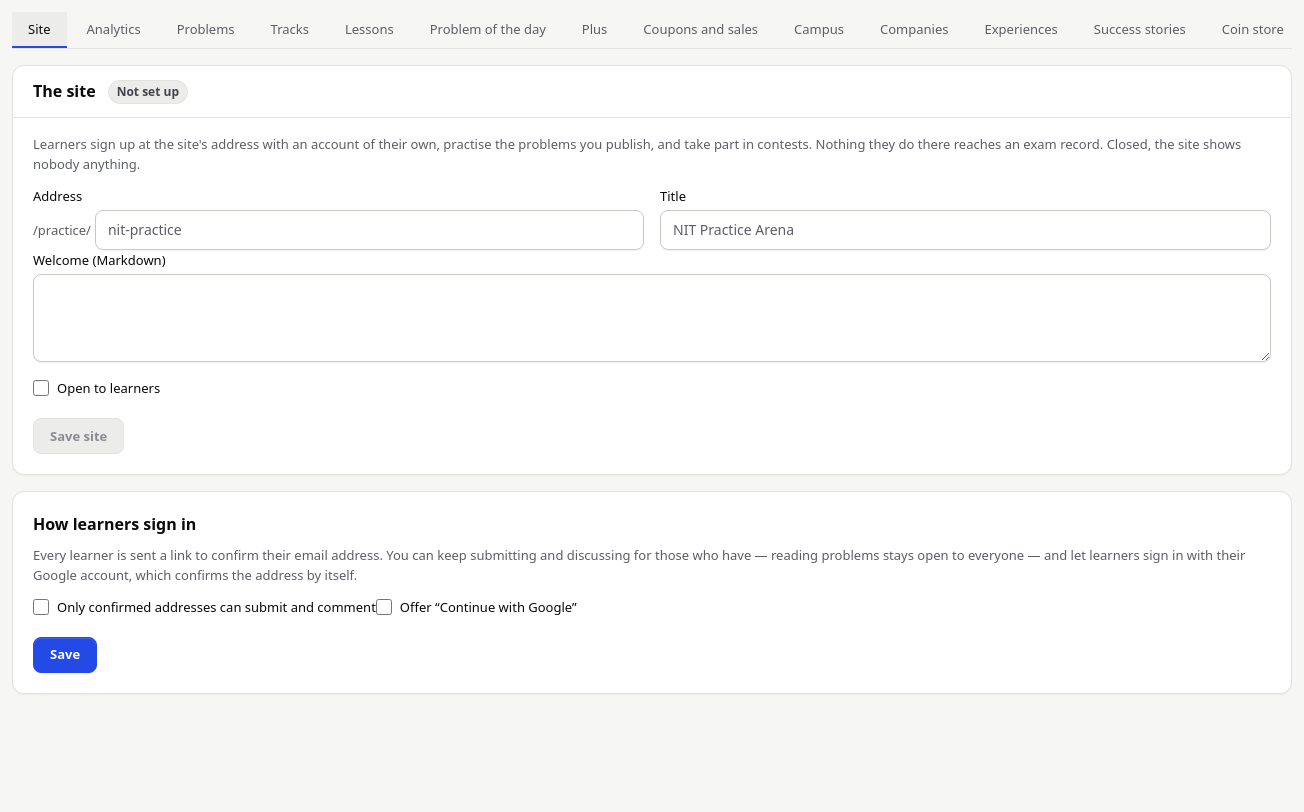
Test: the practice panel › publishes a bank question, offering only what can be checked by machine
Click the tab "Problems": (206, 30) top-left (161, 12), bottom-right (251, 48)
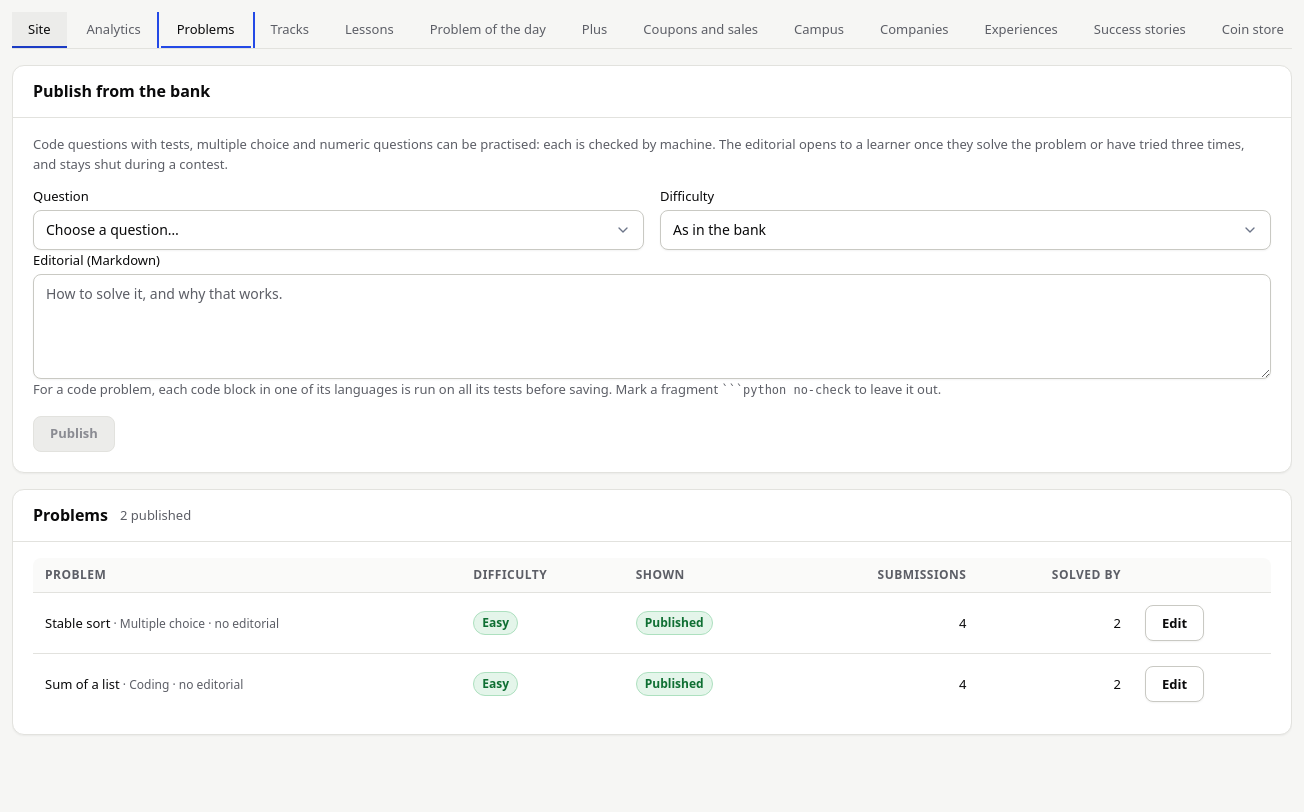
Select "Which is a heap? (mcq, easy)" in the dropdown labelled "Question": (338, 230) top-left (33, 210), bottom-right (644, 250)
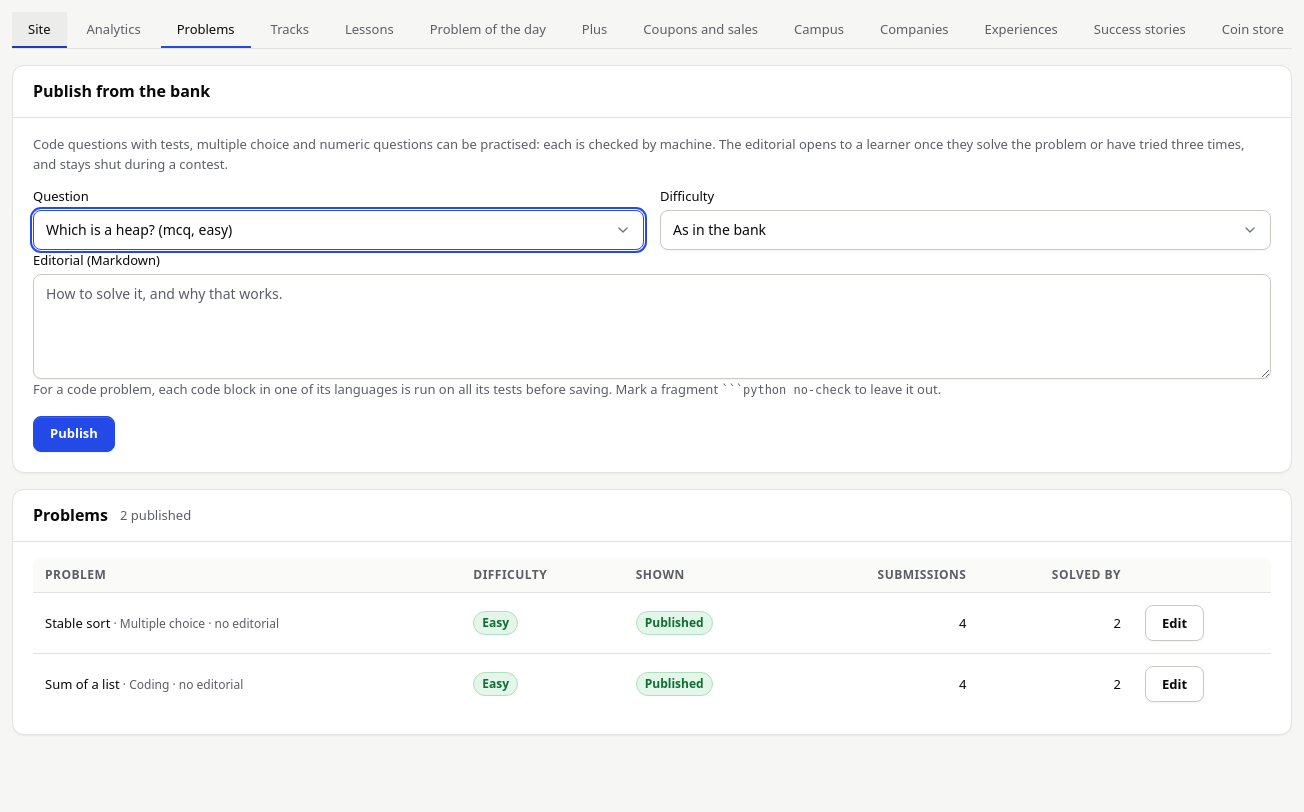
In the text box labelled "Editorial (Markdown)": (652, 327) top-left (33, 274), bottom-right (1271, 379), type "A heap keeps its **smallest** on top."
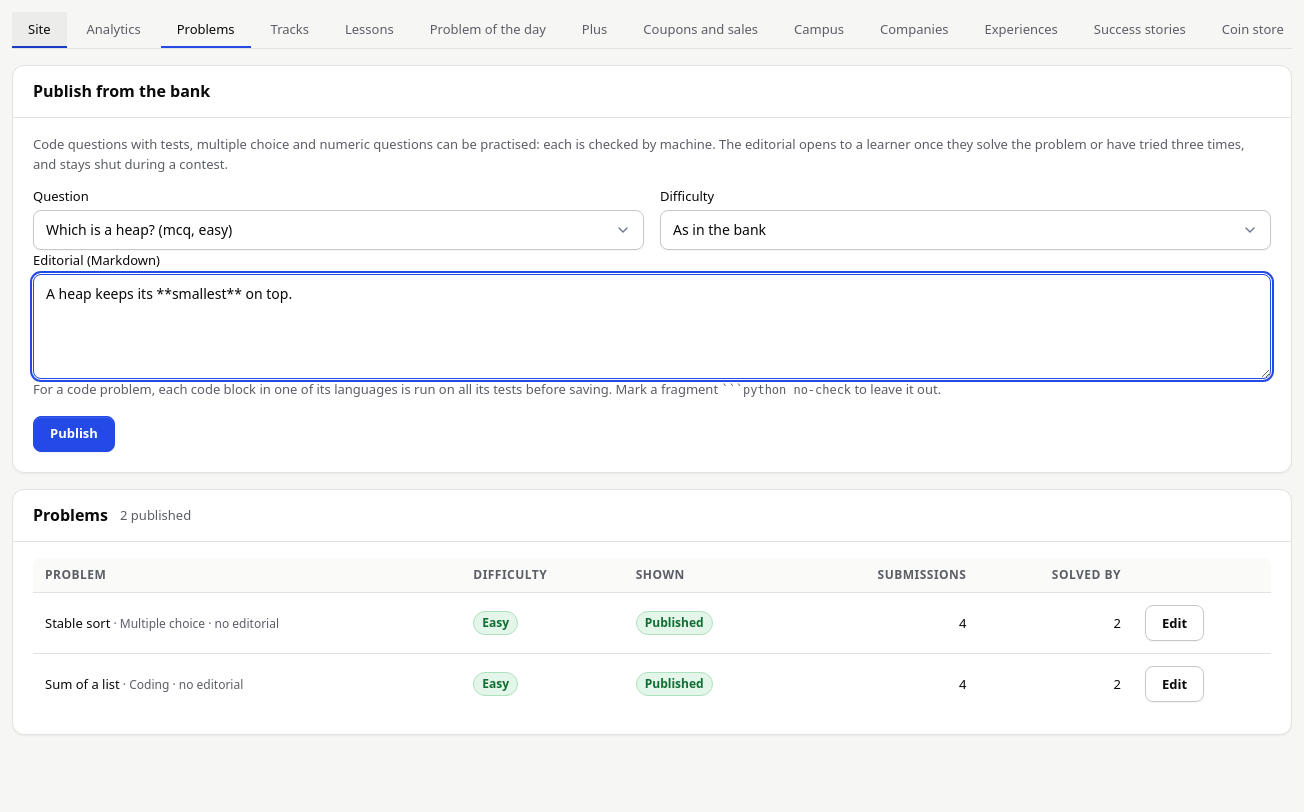
Click the button "Publish": (74, 434) top-left (33, 416), bottom-right (115, 452)
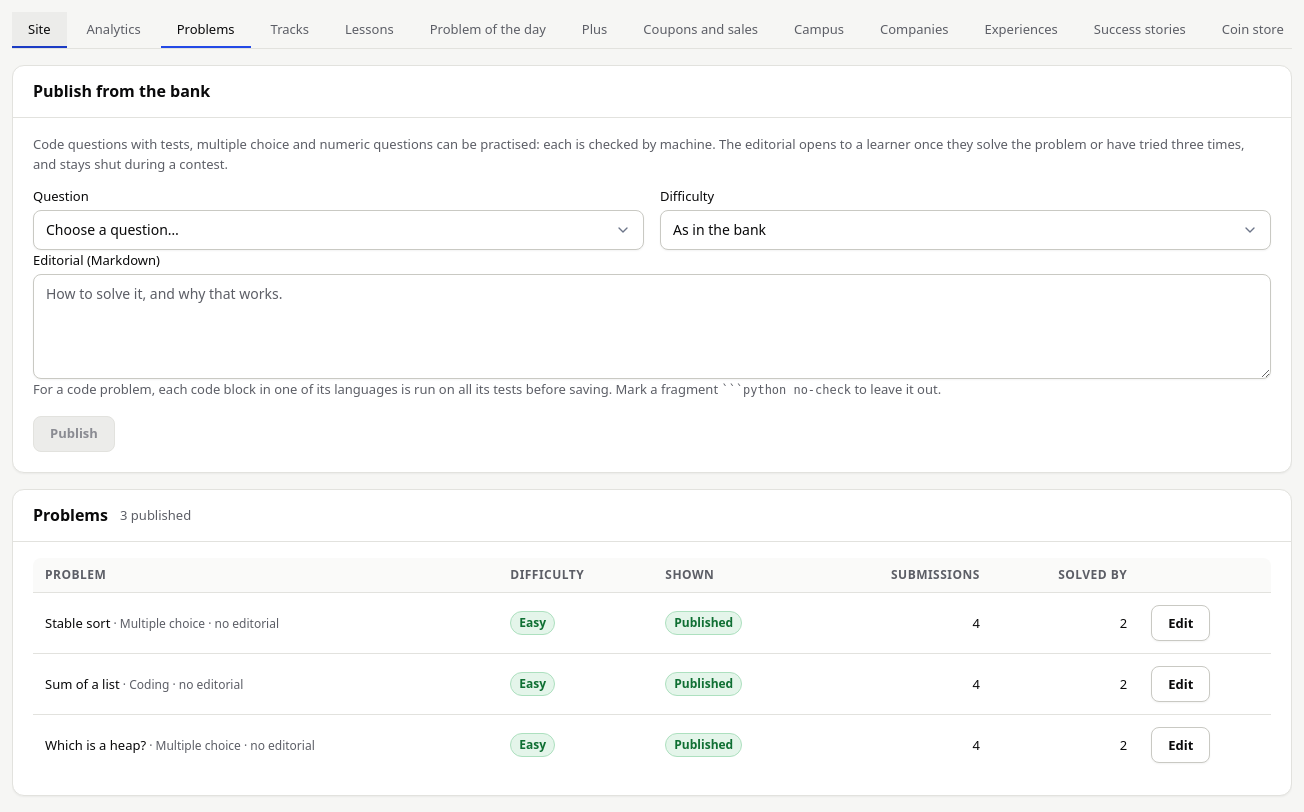
Check: the text "Which is a heap?" is shown, box top-left (45, 736), bottom-right (146, 754)
